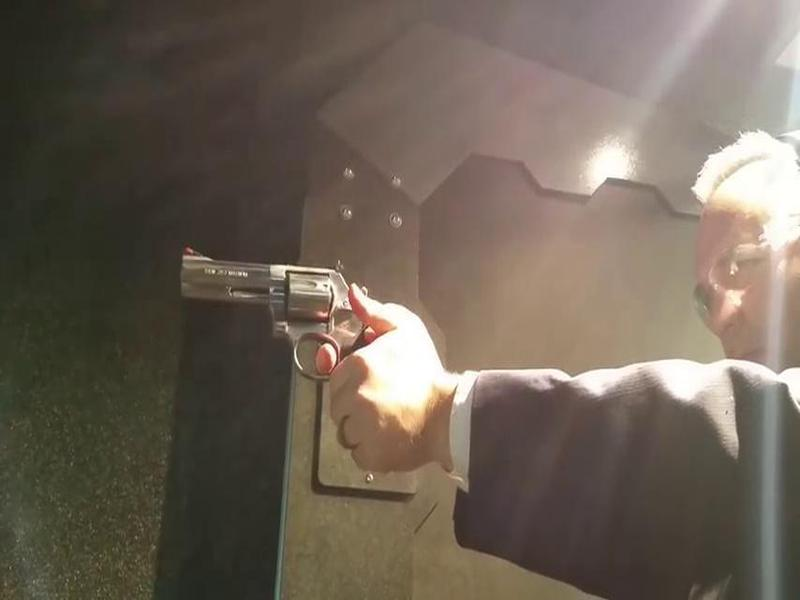Revolver: (171, 229, 379, 398)
